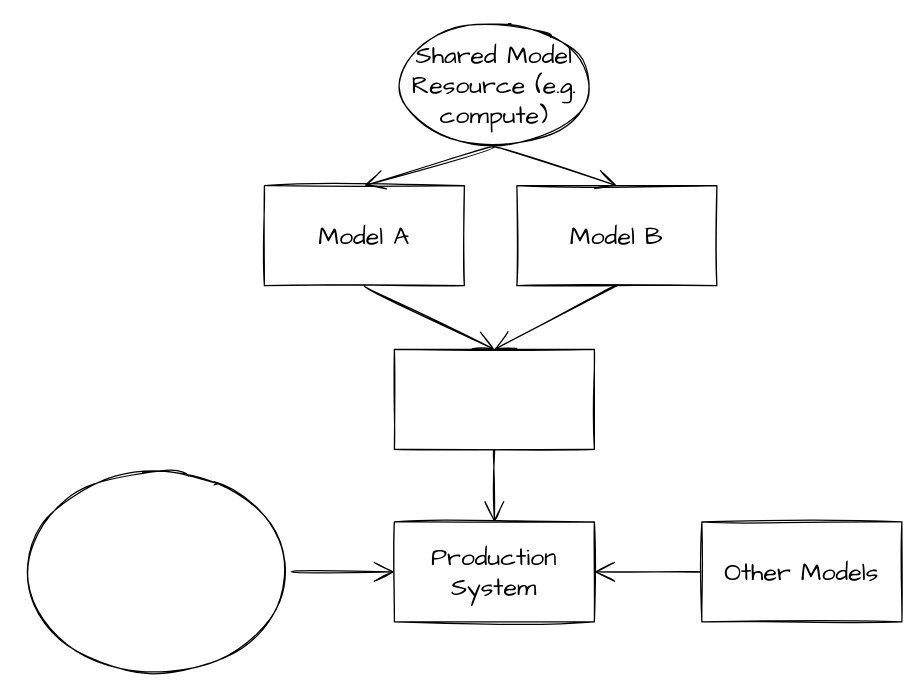
Some shapes in this 924 by 698 pixel diagram are drawn without their labels. The box of each missing label's shape, as (x1, y1, x2, y2) in pixels:
A/B Testing Framework: (393, 348, 594, 449)
Shared System Resource (e.g. budget, human reviewer bandwidth): (21, 467, 292, 676)
